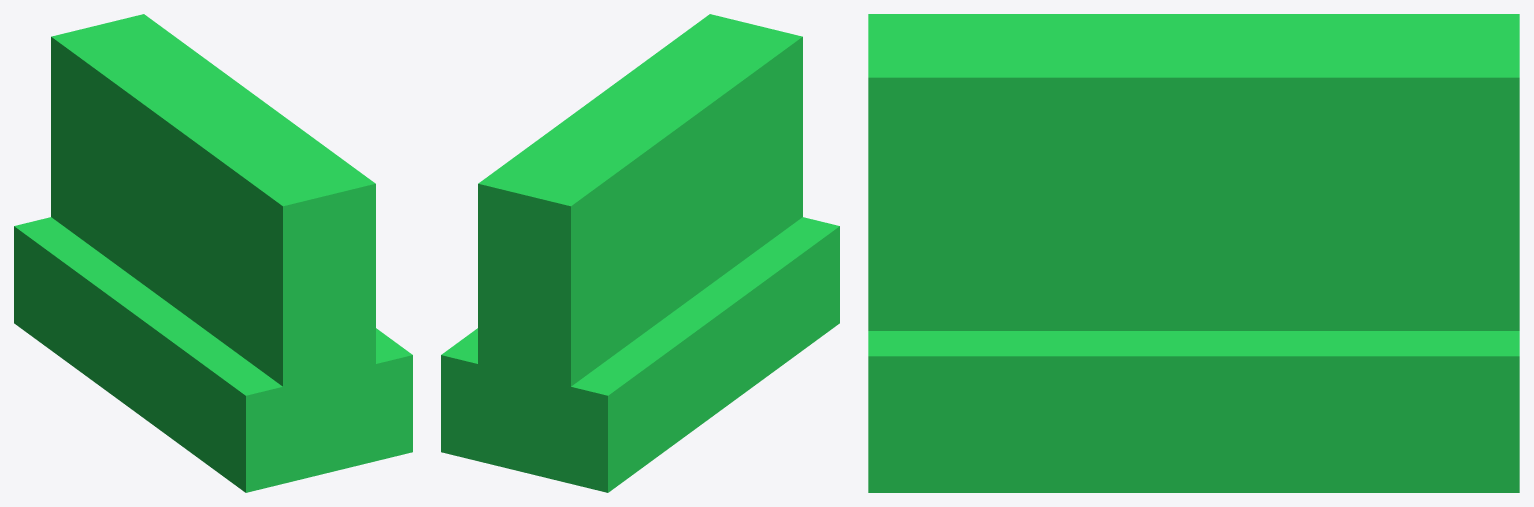
Rendered from wallV5.glb.
3 renders of one model, left to right at view 1: azimuth 30°, elevation 25°; view 2: azimuth 150°, elevation 25°; view 3: azimuth 270°, elevation 25°, orthographic. The views are drawn at different scales.
Parts seen in each view (by area): view 1: MuraillePlaceholder; view 2: MuraillePlaceholder; view 3: MuraillePlaceholder.
Boxes of the visible parts, bbox=[...] form: MuraillePlaceholder: bbox=[14, 14, 412, 492]; MuraillePlaceholder: bbox=[441, 14, 839, 492]; MuraillePlaceholder: bbox=[868, 14, 1519, 492].
Bounding box in the file's own units: 3.6 × 5.71 × 8.65.
